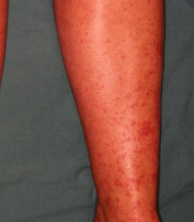SJS-TEN: (50, 0, 170, 222)
